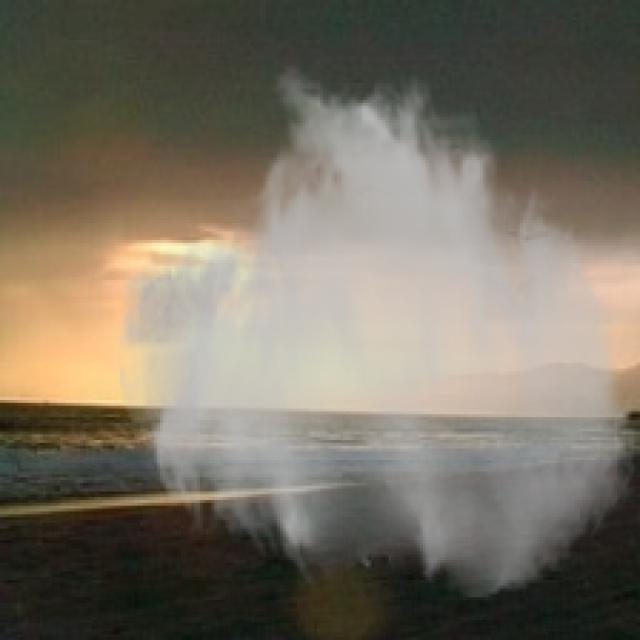Smoke: (112, 63, 638, 606)
